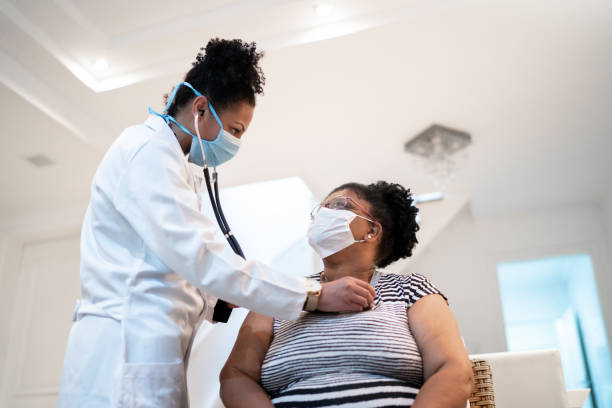with mask: (167, 43, 262, 171), (308, 175, 416, 270)
